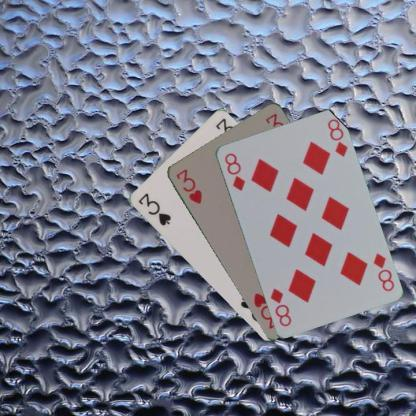3h: (173, 166, 204, 206)
3s: (135, 190, 172, 227)
8d: (370, 250, 395, 292), (222, 150, 246, 192)
